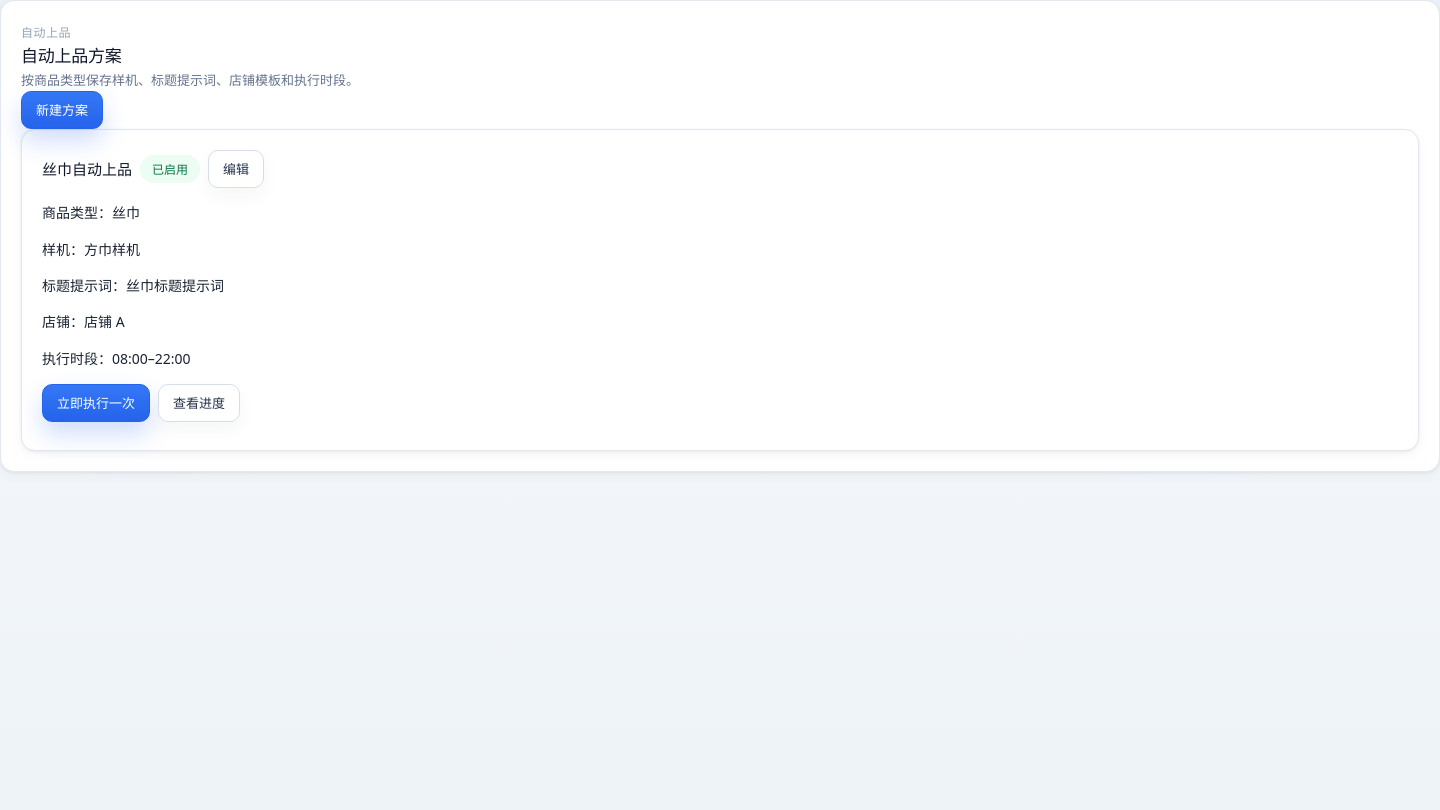
Test: AutoListingPlansPage › edits an existing plan and saves it with the existing id
This screenshot has width=1440, height=810.
Click the button with aria-label "编辑丝巾自动上品": (236, 169) [208, 150, 264, 188]
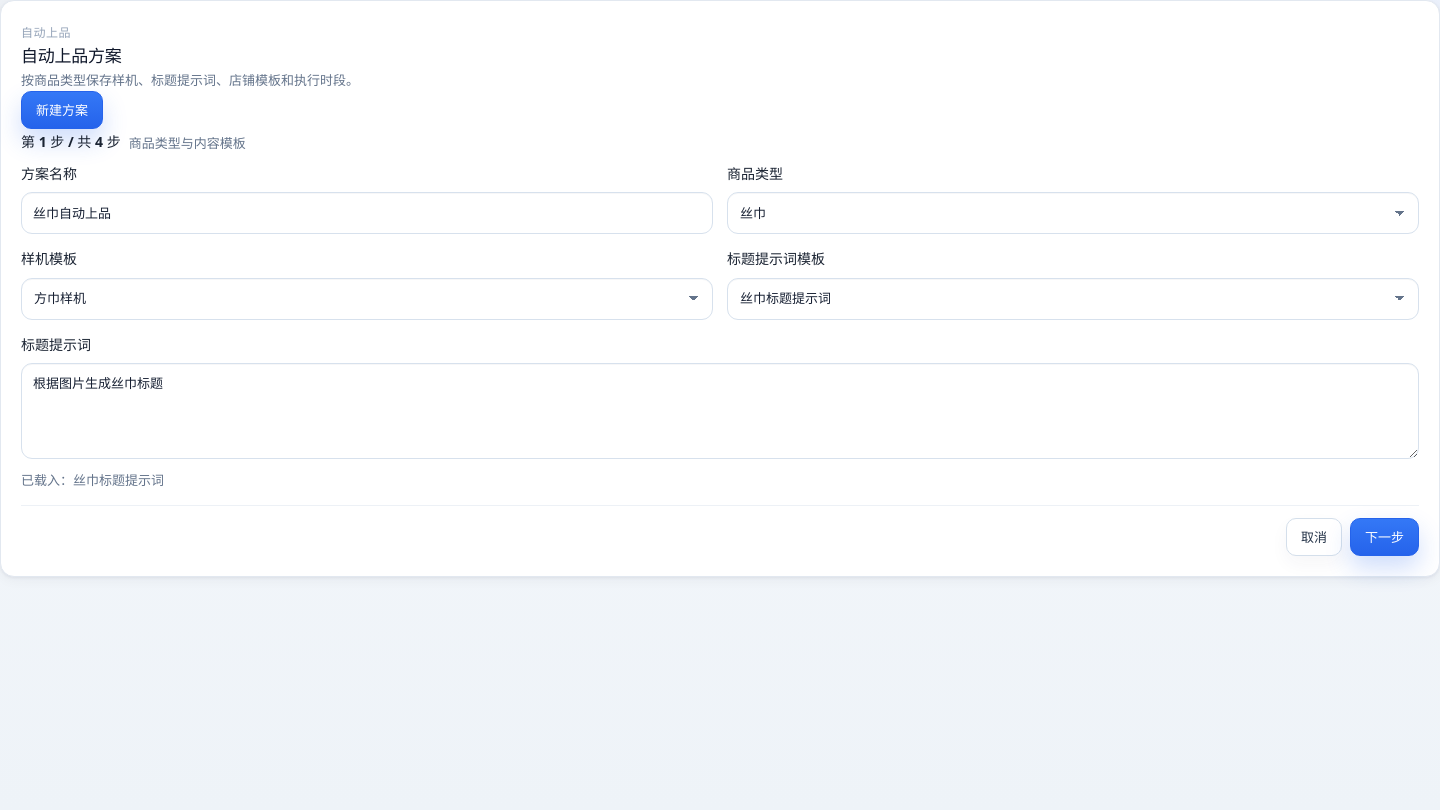
expect the field labelled "方案名称" holds "丝巾自动上品": met
Replace the text in the field labelled "方案名称" with "丝巾自动上品（已编辑）": (367, 213) [21, 192, 713, 234]
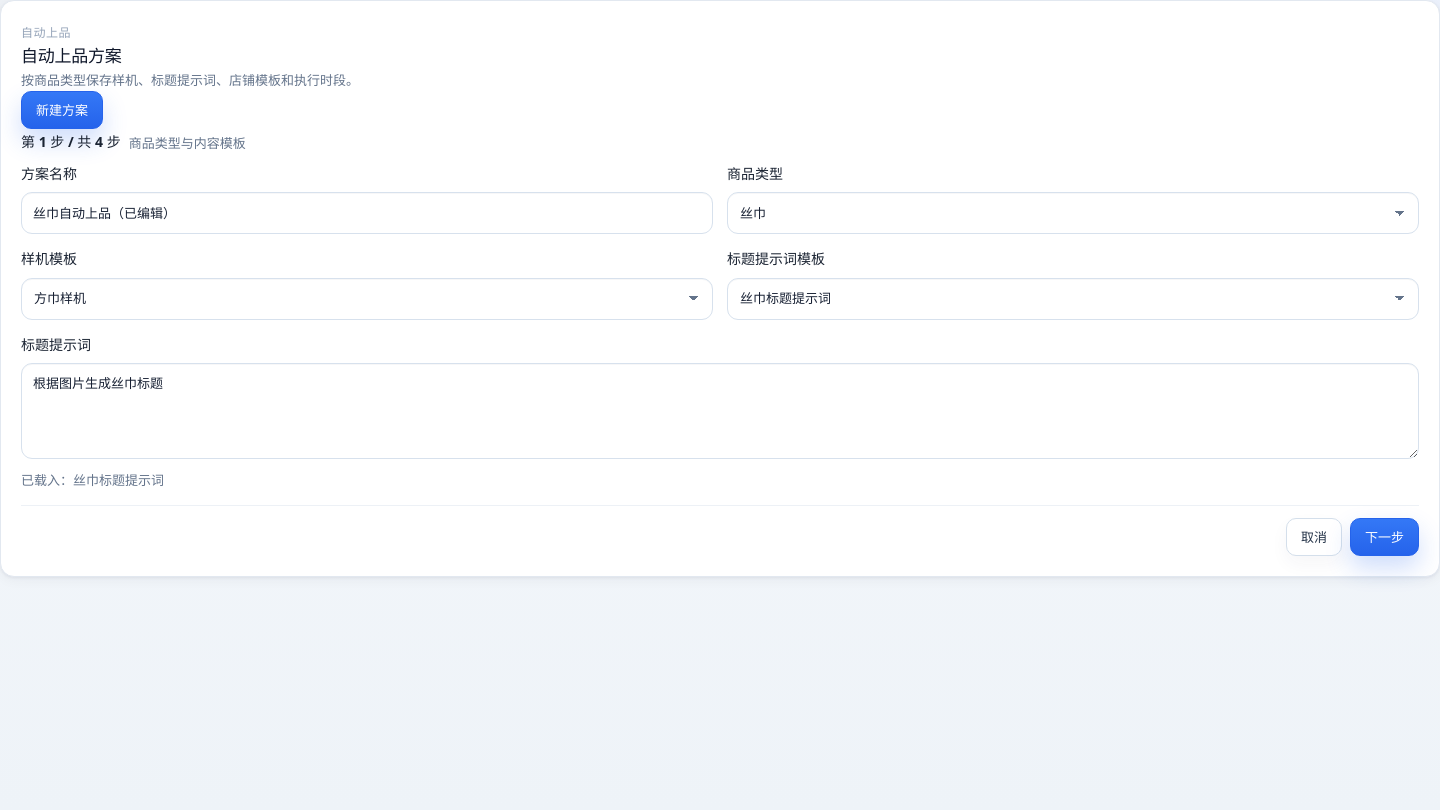
Click the button "下一步": (1384, 537) [1350, 518, 1419, 556]
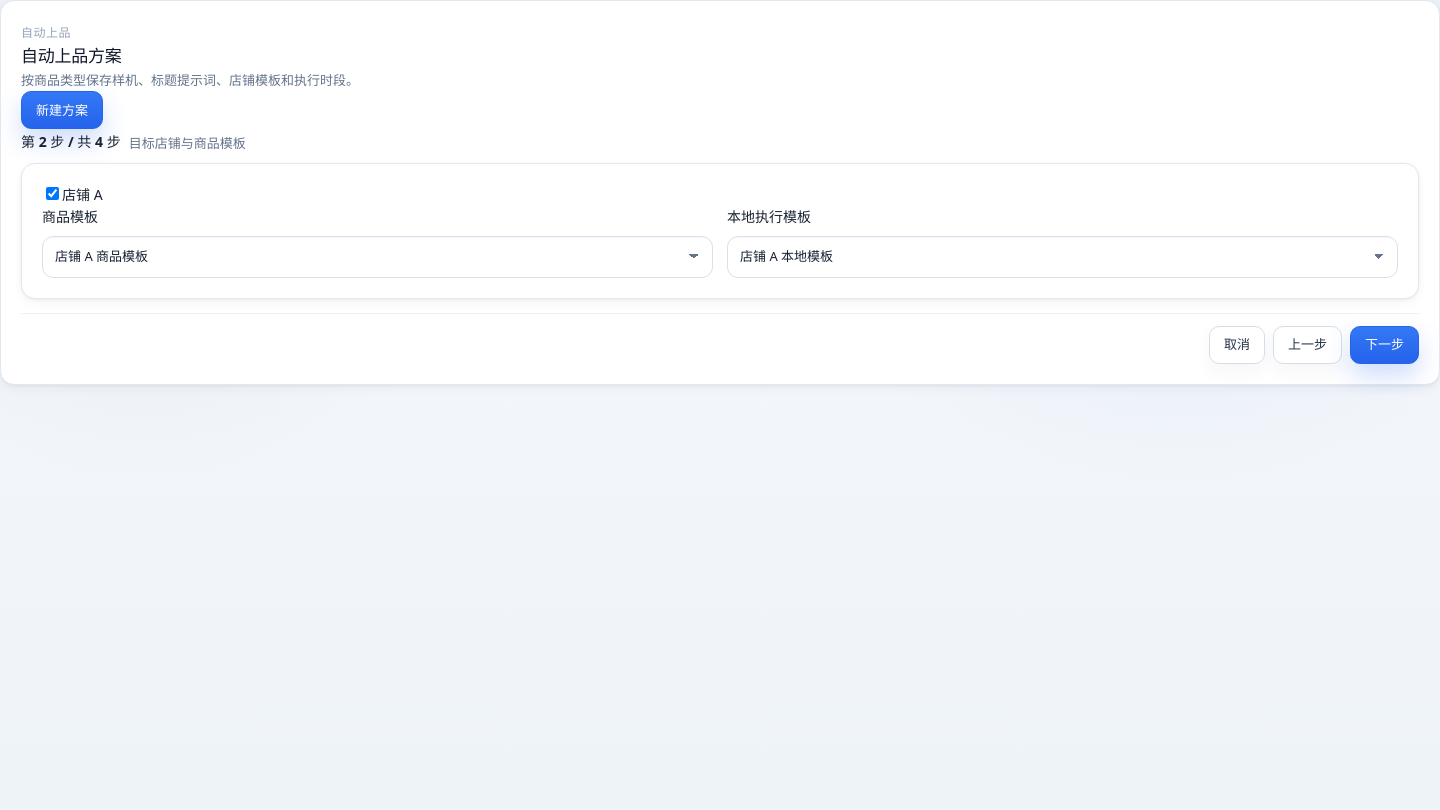
expect the dropdown named "店铺 A 商品模板" shows "店铺 A 商品模板": met, box [42, 236, 713, 278]
Click the button "下一步": (1384, 344) [1350, 326, 1419, 364]
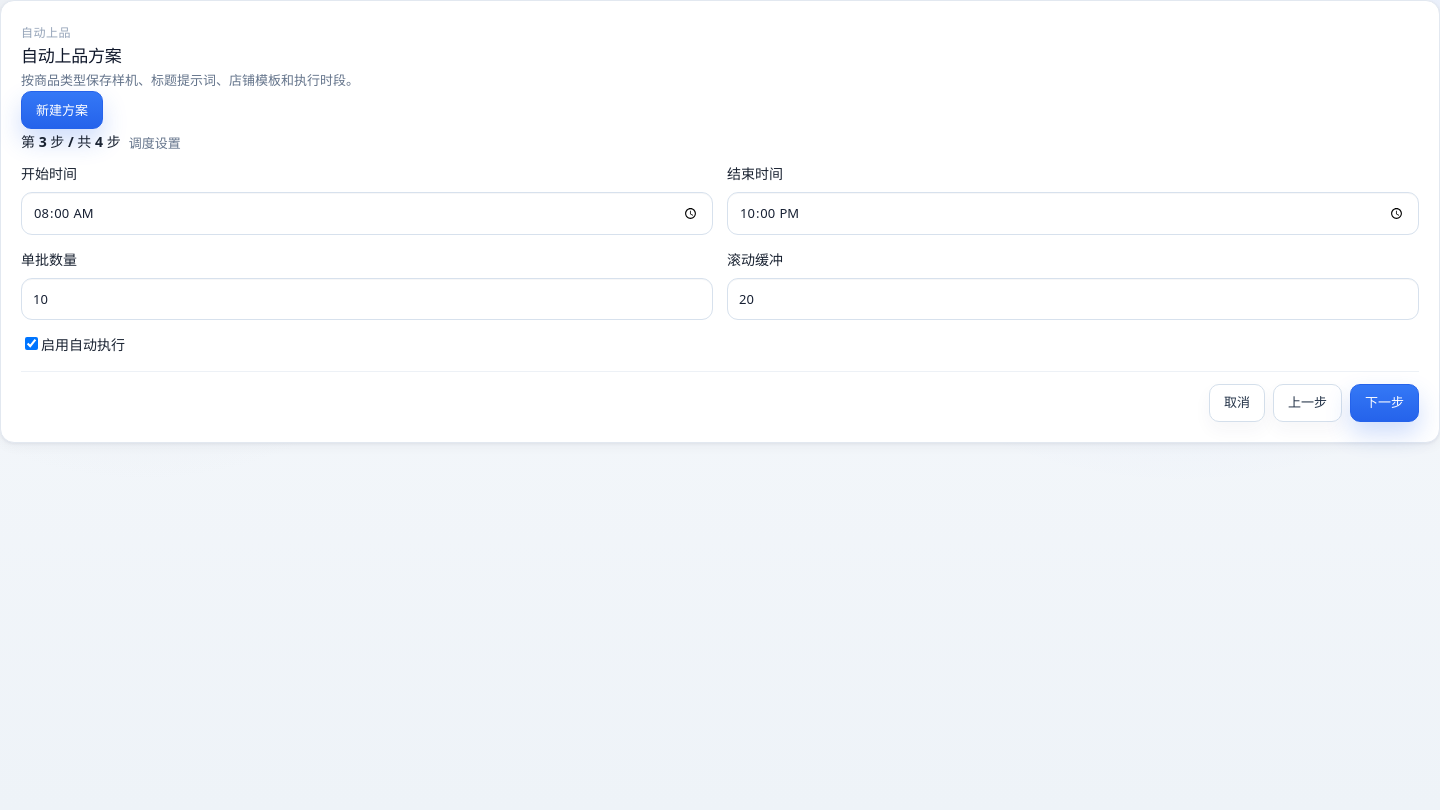
Click the button "下一步": (1384, 403) [1350, 384, 1419, 422]
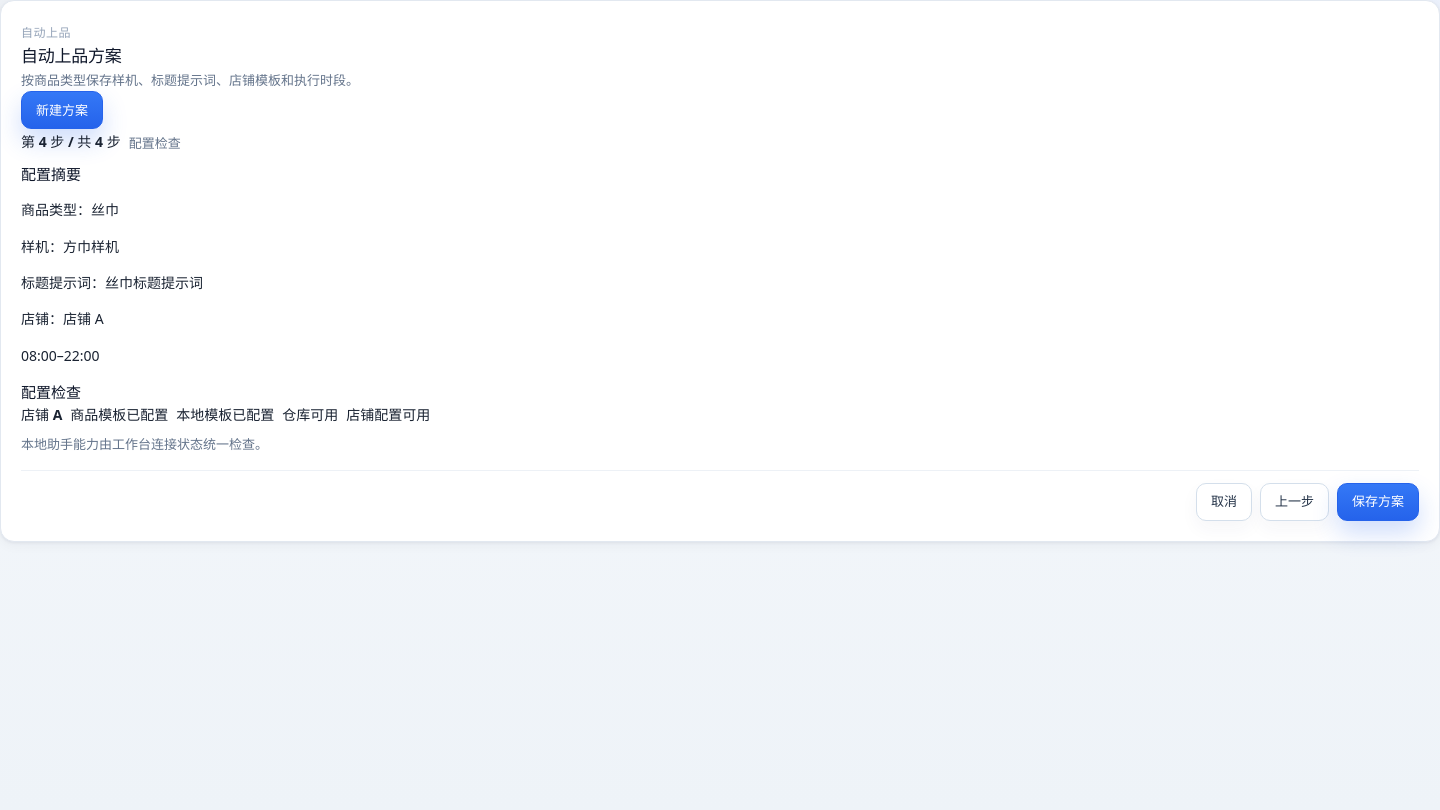
Click the button "保存方案": (1378, 502) [1337, 482, 1419, 520]
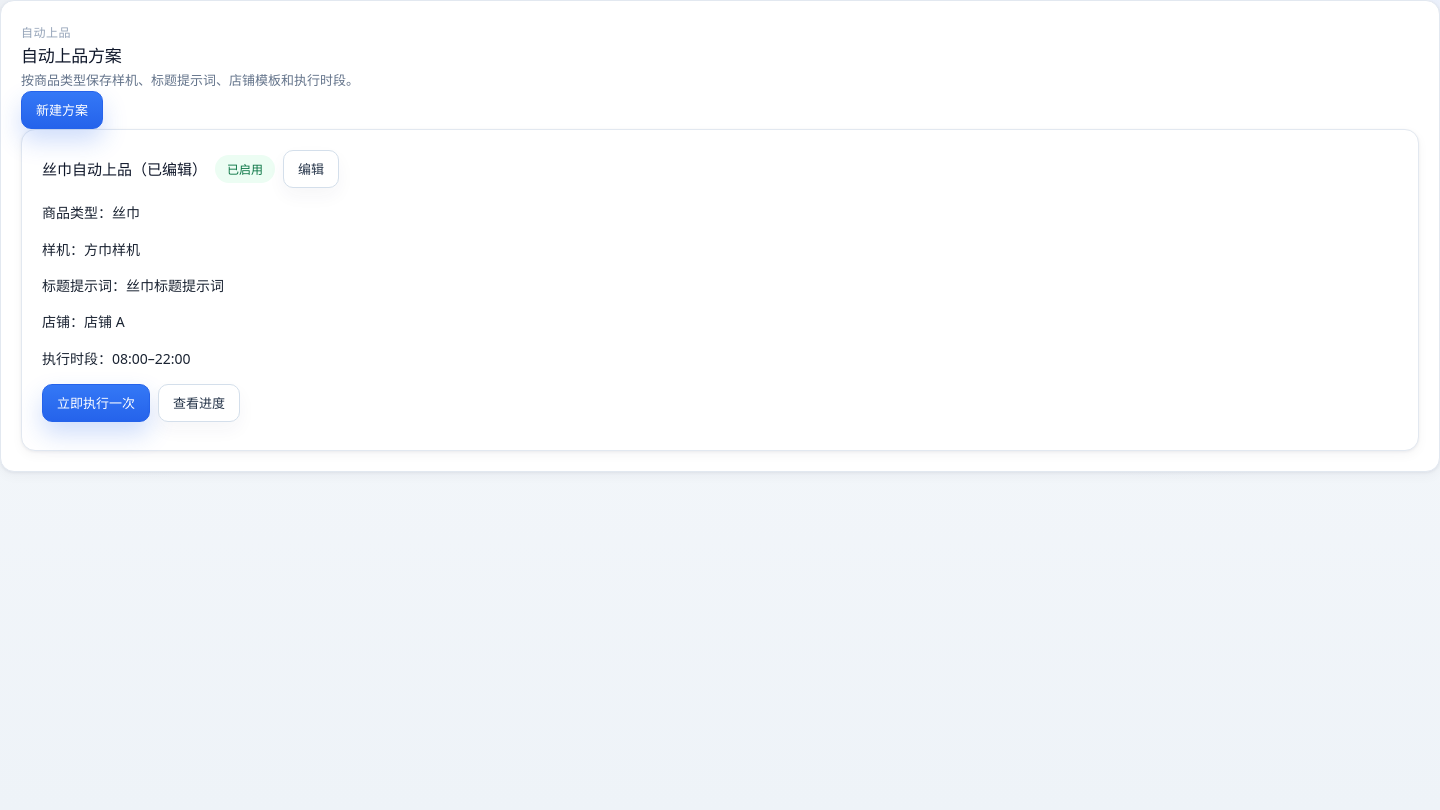
expect the heading "丝巾自动上品（已编辑）" is shown: met, box [42, 158, 207, 180]
